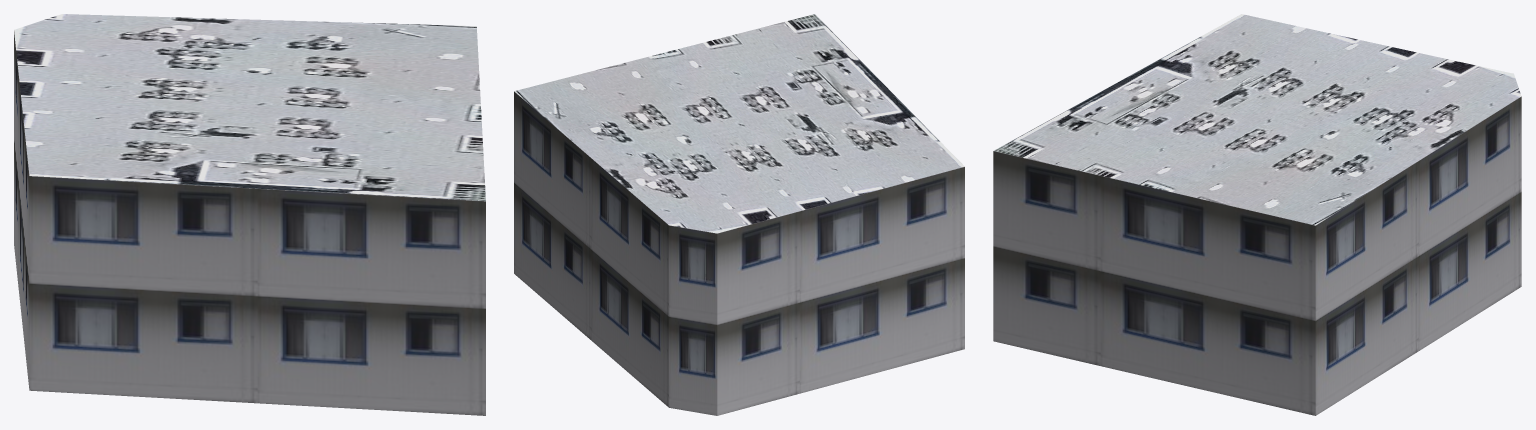
The model's file is ResTex__1208.fbx.
3 renders of one model, left to right at view 1: azimuth 30°, elevation 25°; view 2: azimuth 150°, elevation 25°; view 3: azimuth 270°, elevation 25°, orthographic. The views are drawn at different scales.
Parts seen in each view (by area): view 1: CityEngineMaterial_9_m, CityEngineMaterial_2_m; view 2: CityEngineMaterial_9_m, CityEngineMaterial_2_m; view 3: CityEngineMaterial_9_m, CityEngineMaterial_2_m.
Part boxes in pixels (x1,y1,x2,y2): CityEngineMaterial_9_m: (14, 31, 485, 415); CityEngineMaterial_2_m: (14, 14, 485, 201); CityEngineMaterial_9_m: (514, 91, 964, 415); CityEngineMaterial_2_m: (514, 14, 964, 233); CityEngineMaterial_9_m: (993, 96, 1521, 415); CityEngineMaterial_2_m: (994, 14, 1521, 225).
Size of the model in its own units: 14.3 by 6 by 15.09.
Materials: 2 (2 with a texture image).
